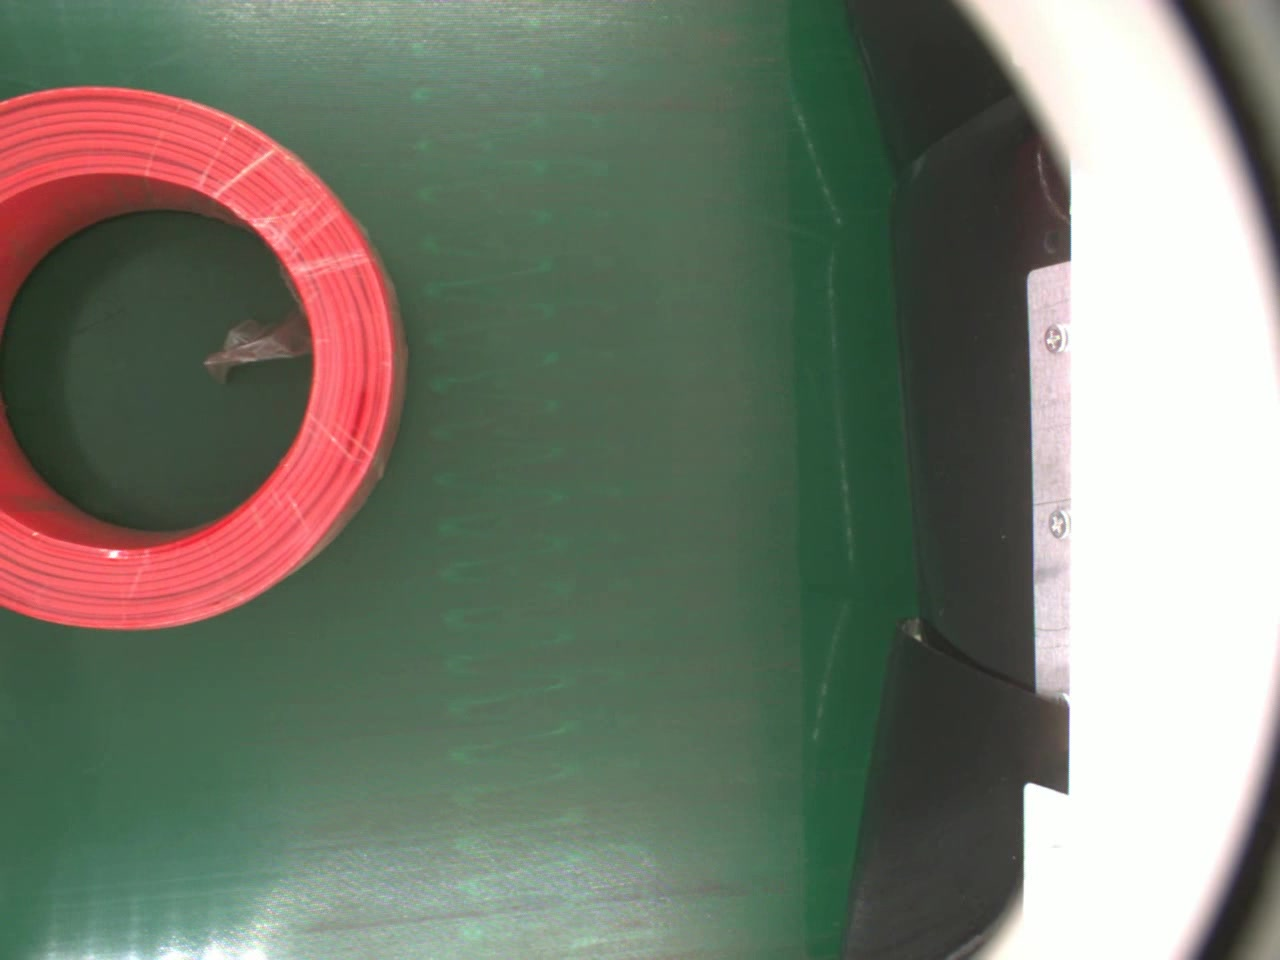red: (0, 80, 406, 629)
